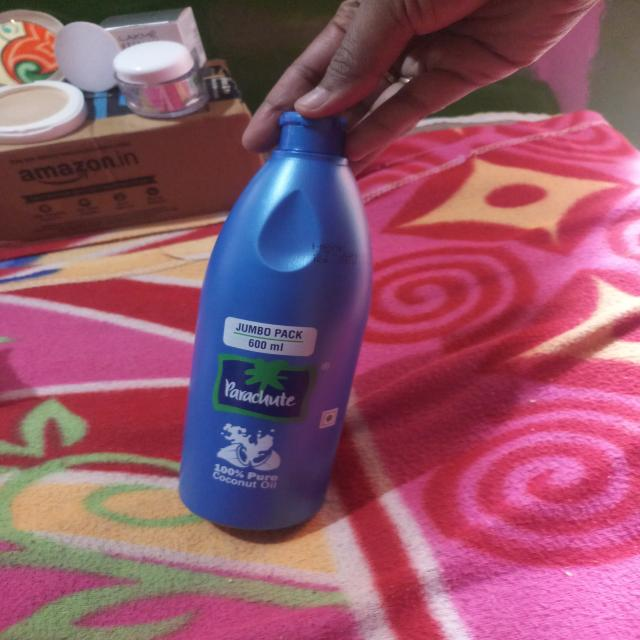parachute_oil: (172, 100, 376, 538)
